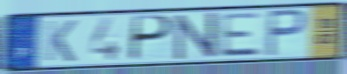4: (89, 16, 121, 63)
E: (218, 11, 263, 59)
K: (42, 19, 78, 64)
N: (174, 11, 218, 62)
P: (127, 14, 175, 63), (264, 8, 309, 58)
